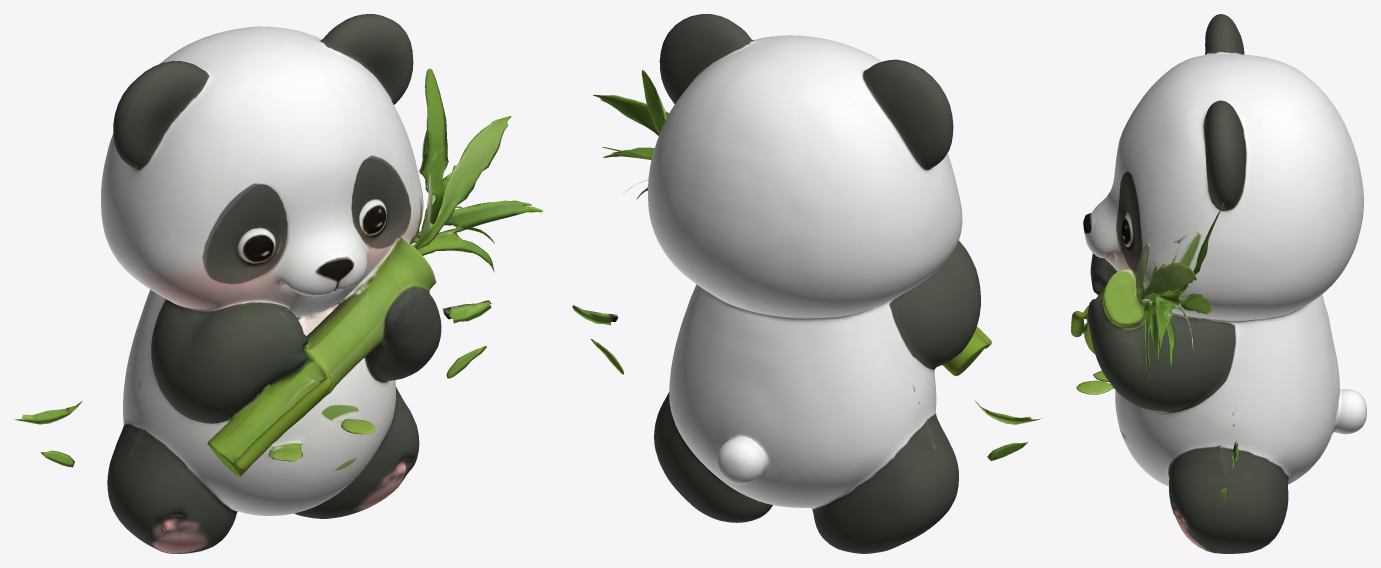
The model's file is panda.glb.
3 views of the same model, side by side, from view 1: azimuth 30°, elevation 25°; view 2: azimuth 150°, elevation 25°; view 3: azimuth 270°, elevation 25° (orthographic). The views are drawn at different scales.
Visible parts, largest first — view 1: panda; view 2: panda; view 3: panda.
Part boxes in pixels (x1,y1,x2,y2): panda: (15,14,542,553); panda: (572,14,1041,553); panda: (1071,14,1366,553).
Bounding box in the file's own units: 3.33 × 3.2 × 1.9.
1 material, 1 textured.
